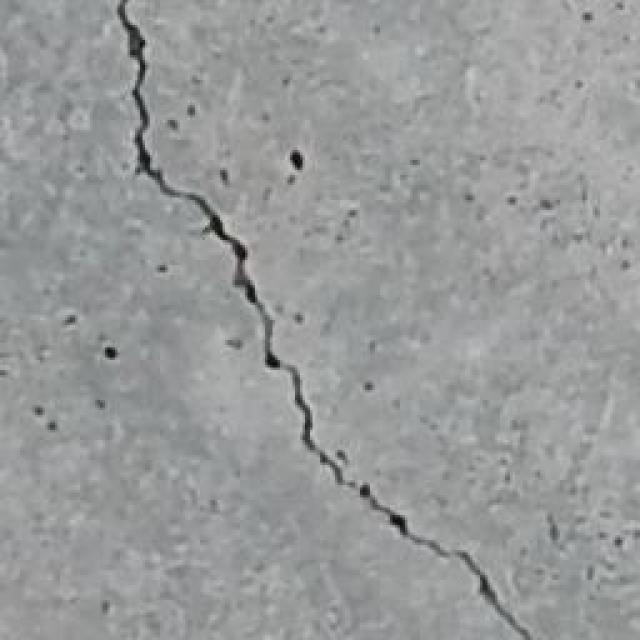concrete-crack: (118, 0, 352, 488), (358, 485, 540, 640)
